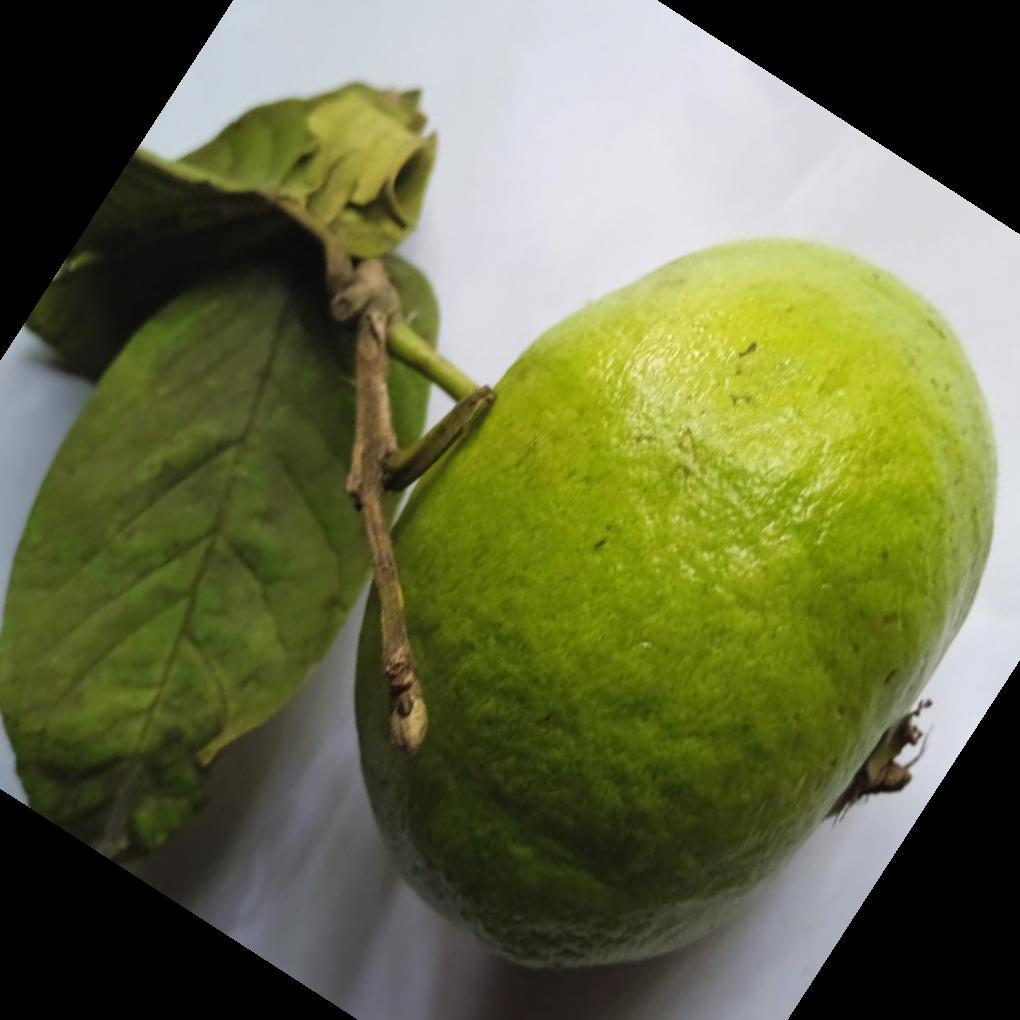FreshGuava: (355, 237, 998, 973)
